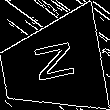N_W: (27, 41, 78, 90)
